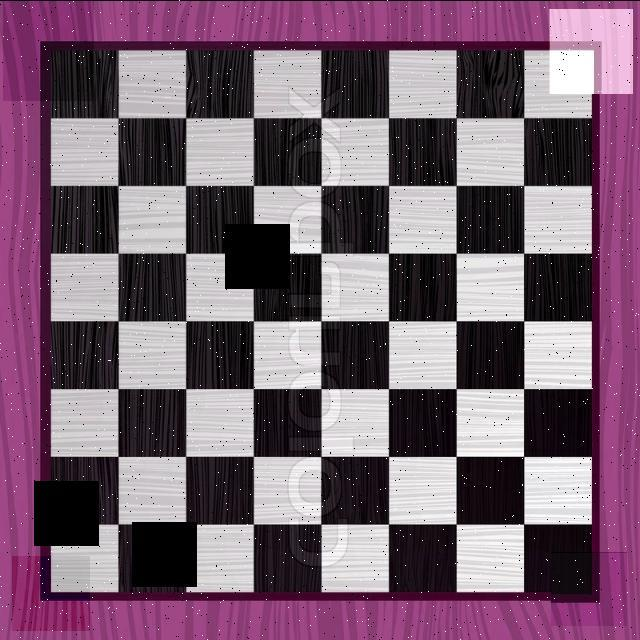chess-table-corners: (3, 0, 94, 100), (548, 8, 632, 93), (12, 555, 90, 630), (551, 550, 627, 624)
